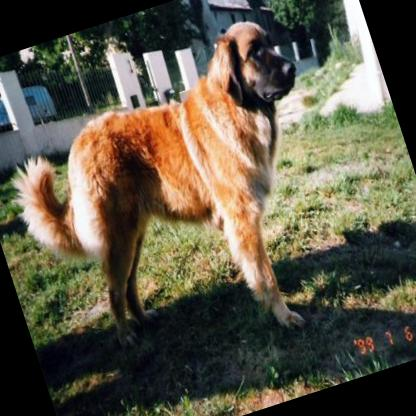Leonberg: (0, 7, 372, 399)
